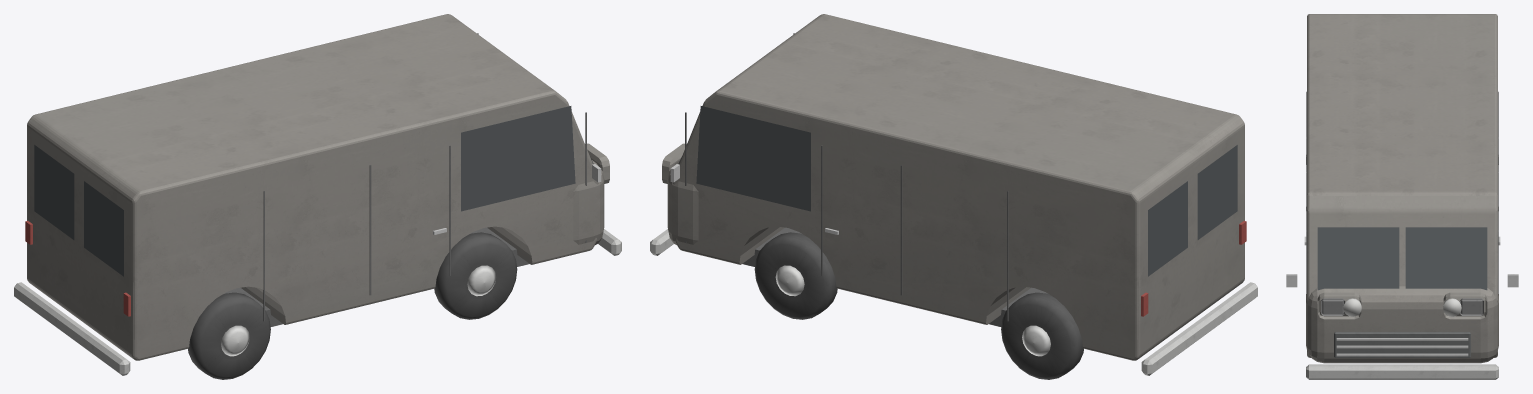
The model's file is BC2_VAN01.glb.
3 renders of one model, left to right at view 1: azimuth 30°, elevation 25°; view 2: azimuth 150°, elevation 25°; view 3: azimuth 270°, elevation 25°, orthographic. The views are drawn at different scales.
Visible parts, largest first — view 1: BC2_VAN01_paint, BC2_VAN01_glass, BC2_VAN01_rubber, BC2_VAN01_chrome, BC2_VAN01_trim; view 2: BC2_VAN01_paint, BC2_VAN01_glass, BC2_VAN01_rubber, BC2_VAN01_chrome, BC2_VAN01_trim; view 3: BC2_VAN01_paint, BC2_VAN01_glass, BC2_VAN01_chrome, BC2_VAN01_trim.
Boxes of the visible parts, left/top/right/bottom form: BC2_VAN01_paint: left=27, top=14, right=609, bottom=360; BC2_VAN01_glass: left=34, top=106, right=593, bottom=276; BC2_VAN01_rubber: left=188, top=232, right=517, bottom=379; BC2_VAN01_chrome: left=14, top=164, right=621, bottom=375; BC2_VAN01_trim: left=25, top=33, right=586, bottom=326; BC2_VAN01_paint: left=662, top=14, right=1244, bottom=360; BC2_VAN01_glass: left=678, top=106, right=1237, bottom=276; BC2_VAN01_rubber: left=754, top=232, right=1083, bottom=379; BC2_VAN01_chrome: left=650, top=164, right=1257, bottom=375; BC2_VAN01_trim: left=685, top=33, right=1246, bottom=326; BC2_VAN01_paint: left=1306, top=14, right=1498, bottom=363; BC2_VAN01_glass: left=1317, top=227, right=1487, bottom=290; BC2_VAN01_chrome: left=1286, top=155, right=1518, bottom=379; BC2_VAN01_trim: left=1306, top=91, right=1498, bottom=357.
Size of the model in its own units: 4.73 by 1.92 by 2.14.
5 materials, 4 textured.
